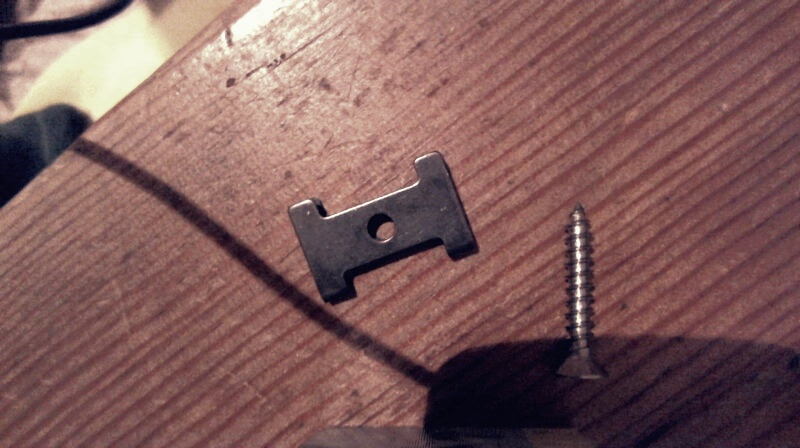O002: (283, 148, 479, 306)
S001: (553, 201, 613, 386)
